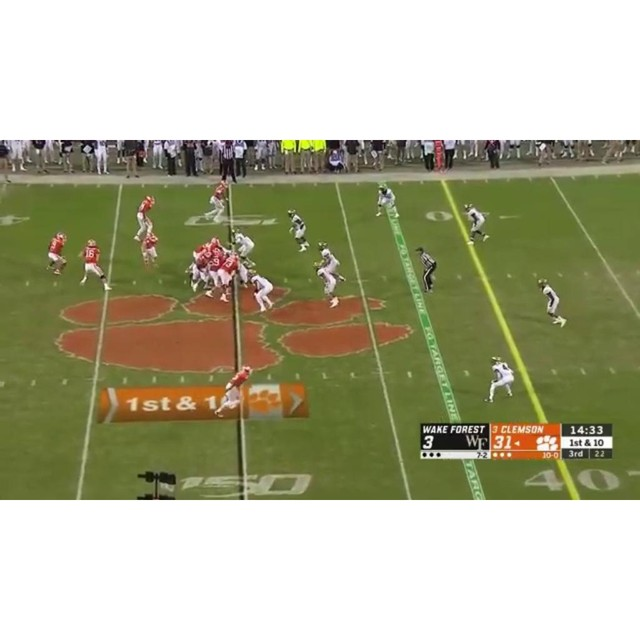american-football-player: (214, 365, 253, 418), (80, 238, 111, 290), (537, 278, 568, 327), (206, 255, 237, 302), (484, 357, 515, 403), (313, 261, 342, 309), (318, 241, 346, 283), (188, 248, 214, 293), (249, 271, 275, 315), (464, 203, 490, 244), (134, 195, 156, 241), (208, 177, 230, 222), (46, 232, 68, 277), (288, 208, 310, 252), (232, 228, 256, 267), (375, 184, 399, 218), (141, 229, 159, 269)
referee: (415, 246, 438, 293)
